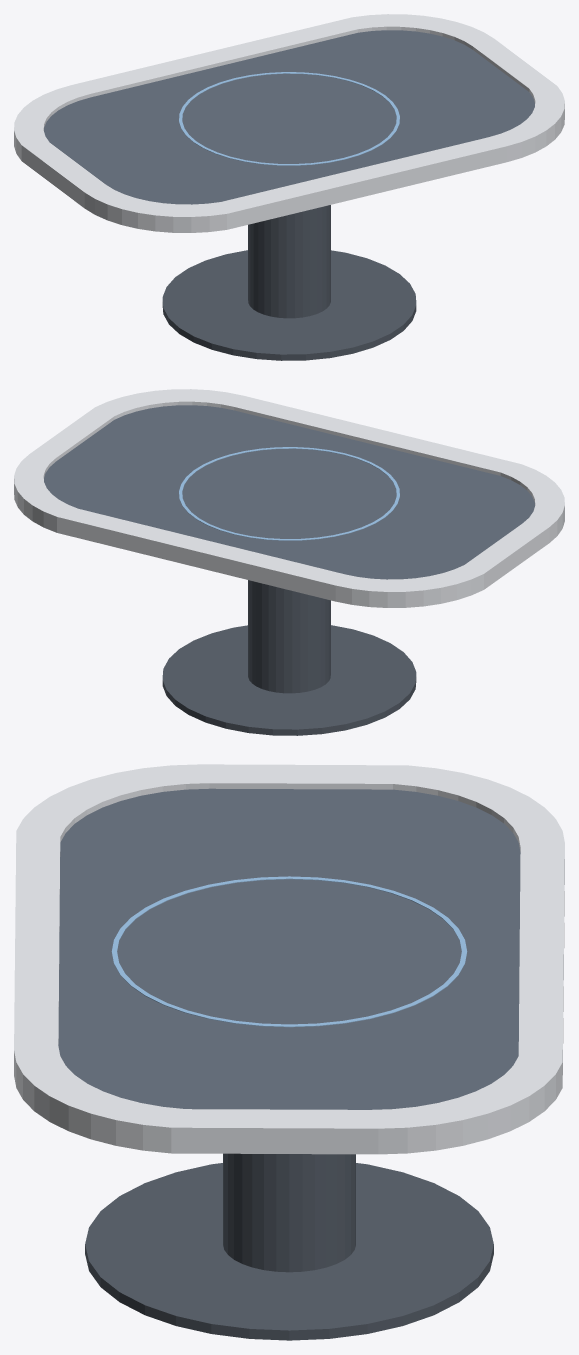
File: table_clean.glb
The picture shows the model from 3 angles, top to bottom: view 1: azimuth 30°, elevation 25°; view 2: azimuth 150°, elevation 25°; view 3: azimuth 270°, elevation 25°; orthographic projection. The views are drawn at different scales.
Parts seen in each view (by area): view 1: CleanSurface, CleanBorderRail, CleanBase, CleanPillar, CleanChassis, CleanCenterRing; view 2: CleanSurface, CleanBorderRail, CleanBase, CleanPillar, CleanChassis, CleanCenterRing; view 3: CleanSurface, CleanBorderRail, CleanBase, CleanPillar, CleanChassis, CleanCenterRing.
Part boxes in pixels (box(x1,y1,x2,y2)): CleanSurface: box(44, 30, 534, 204); CleanBorderRail: box(14, 14, 564, 222); CleanBase: box(162, 250, 416, 360); CleanPillar: box(248, 205, 330, 318); CleanChassis: box(14, 109, 564, 232); CleanCenterRing: box(179, 72, 399, 165); CleanSurface: box(44, 405, 534, 579); CleanBorderRail: box(14, 389, 564, 597); CleanBase: box(162, 625, 416, 735); CleanPillar: box(248, 580, 330, 693); CleanChassis: box(14, 484, 564, 607); CleanCenterRing: box(179, 447, 399, 540); CleanSurface: box(58, 788, 520, 1109); CleanBorderRail: box(14, 764, 564, 1137); CleanBase: box(85, 1163, 493, 1340); CleanPillar: box(223, 1153, 355, 1272); CleanChassis: box(14, 868, 564, 1154); CleanCenterRing: box(111, 876, 467, 1027).
Bounding box in the file's own units: 1.94 × 0.764 × 1.24.
